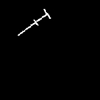double_crochet: (18, 9, 49, 35)
